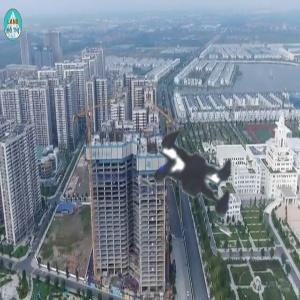drone: (100, 82, 288, 270)
